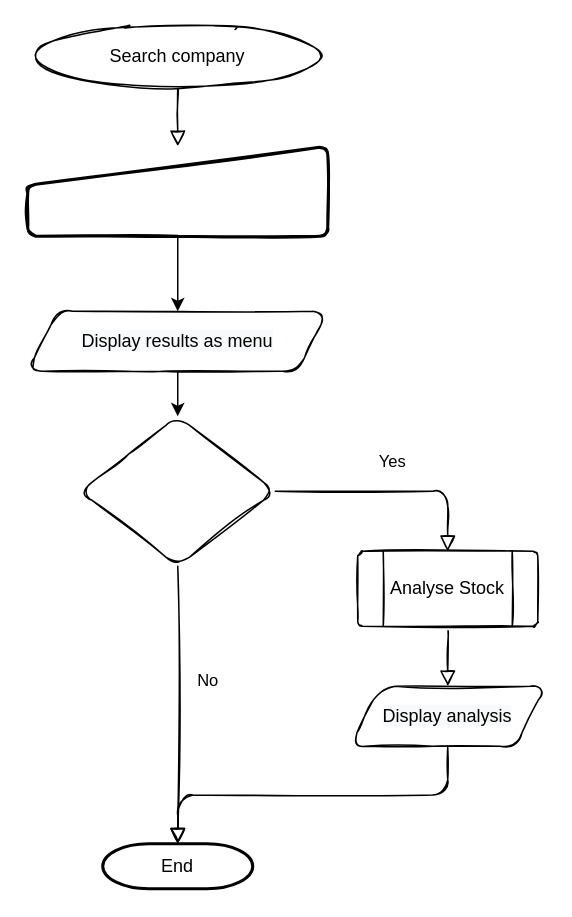
Some shapes in this 572 by 917 pixel diagram are drawn without their labels. Each missing label, with the centre of its shape:
Enter name/partial name: point 177,190
Search result selected?: point 177,490
